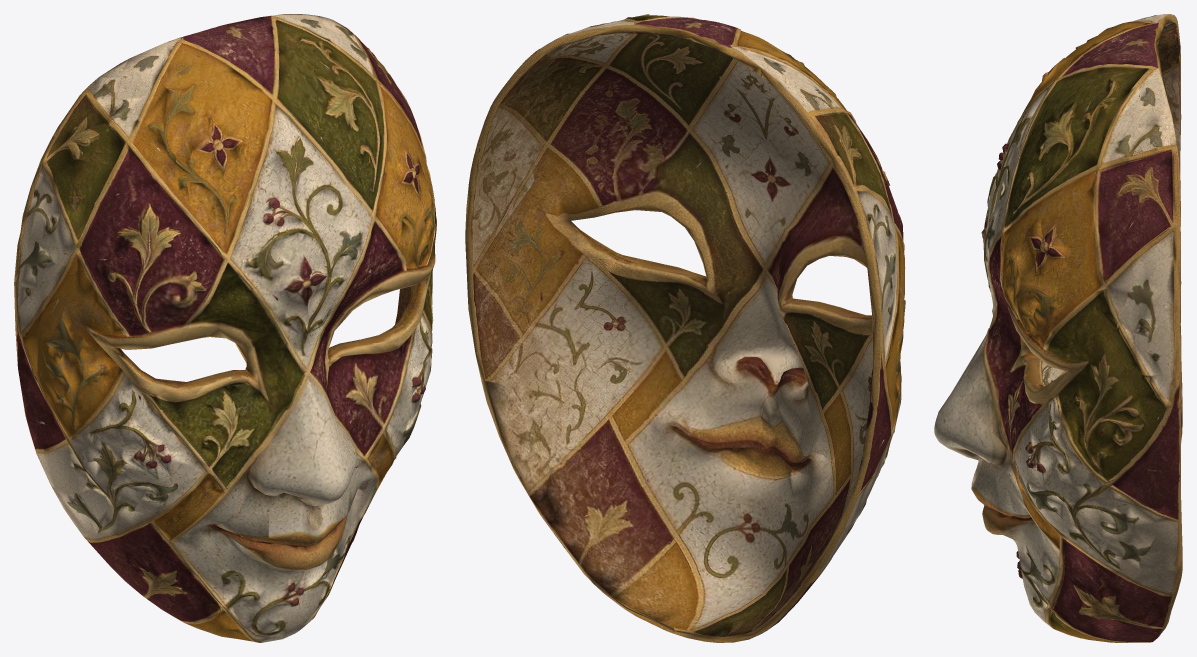
The picture shows the model from 3 angles, left to right: view 1: azimuth 30°, elevation 25°; view 2: azimuth 150°, elevation 25°; view 3: azimuth 270°, elevation 25°; orthographic projection. The views are drawn at different scales.
Bounding box in the file's own units: 1.35 × 1.9 × 0.7264.
1 material, 1 textured.
